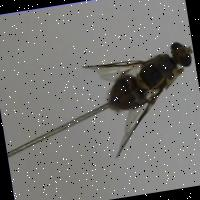Oriental-fruit-fly: (71, 31, 200, 164)
